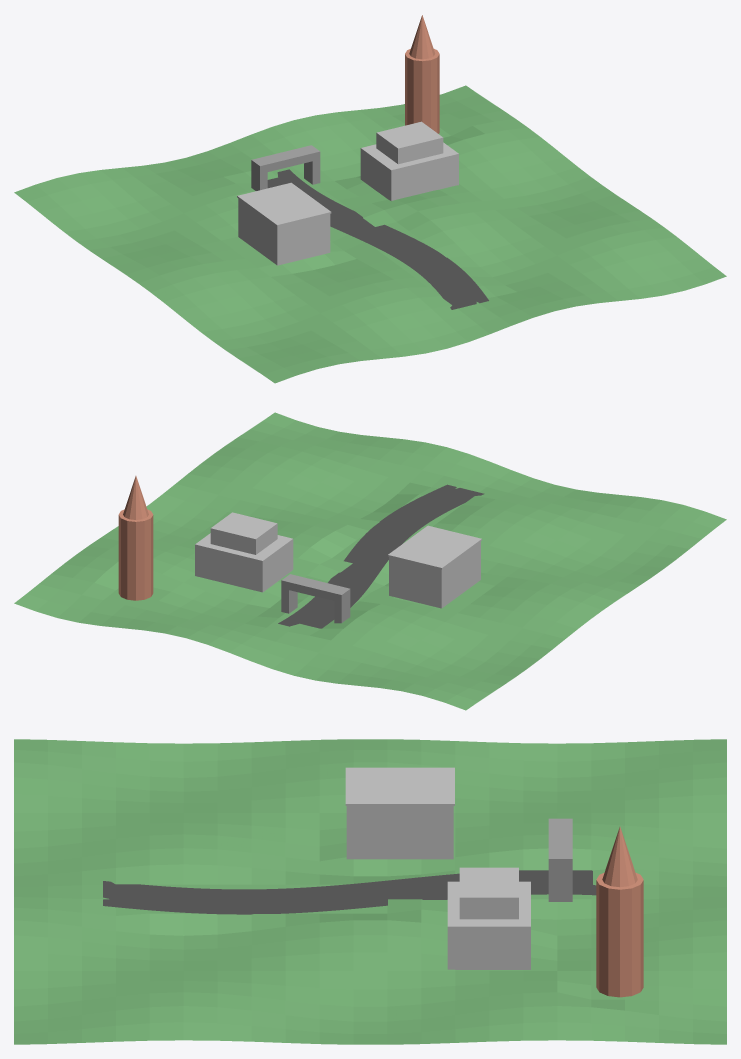
File: XPLAY_world_test.glb
3 views of the same model, one above another, from view 1: azimuth 30°, elevation 25°; view 2: azimuth 150°, elevation 25°; view 3: azimuth 270°, elevation 25° (orthographic). The views are drawn at different scales.
Visible parts, largest first — view 1: XPLAY_GROUND, XPLAY_BUILDING_A, XPLAY_BUILDING_B, XPLAY_ROAD, XPLAY_TOWER, XPLAY_BRIDGE; view 2: XPLAY_GROUND, XPLAY_ROAD, XPLAY_BUILDING_A, XPLAY_BUILDING_B, XPLAY_TOWER, XPLAY_BRIDGE; view 3: XPLAY_GROUND, XPLAY_BUILDING_A, XPLAY_ROAD, XPLAY_BUILDING_B, XPLAY_TOWER, XPLAY_BRIDGE.
Boxes of the visible parts, left/top/right/bottom form: XPLAY_GROUND: left=14, top=85, right=726, bottom=383; XPLAY_BUILDING_A: left=237, top=182, right=331, bottom=265; XPLAY_BUILDING_B: left=360, top=121, right=458, bottom=200; XPLAY_ROAD: left=267, top=169, right=488, bottom=309; XPLAY_TOWER: left=405, top=15, right=439, bottom=133; XPLAY_BRIDGE: left=251, top=145, right=320, bottom=190; XPLAY_GROUND: left=14, top=412, right=726, bottom=710; XPLAY_ROAD: left=278, top=484, right=484, bottom=628; XPLAY_BUILDING_A: left=388, top=525, right=481, bottom=608; XPLAY_BUILDING_B: left=195, top=512, right=293, bottom=592; XPLAY_TOWER: left=118, top=476, right=153, bottom=600; XPLAY_BRIDGE: left=281, top=574, right=350, bottom=623; XPLAY_GROUND: left=14, top=739, right=726, bottom=1044; XPLAY_BUILDING_A: left=345, top=767, right=454, bottom=859; XPLAY_ROAD: left=103, top=870, right=596, bottom=914; XPLAY_BUILDING_B: left=447, top=867, right=530, bottom=969; XPLAY_TOWER: left=596, top=826, right=643, bottom=997; XPLAY_BRIDGE: left=548, top=818, right=572, bottom=901.
Bounding box in the file's own units: 120 × 31.48 × 120.
